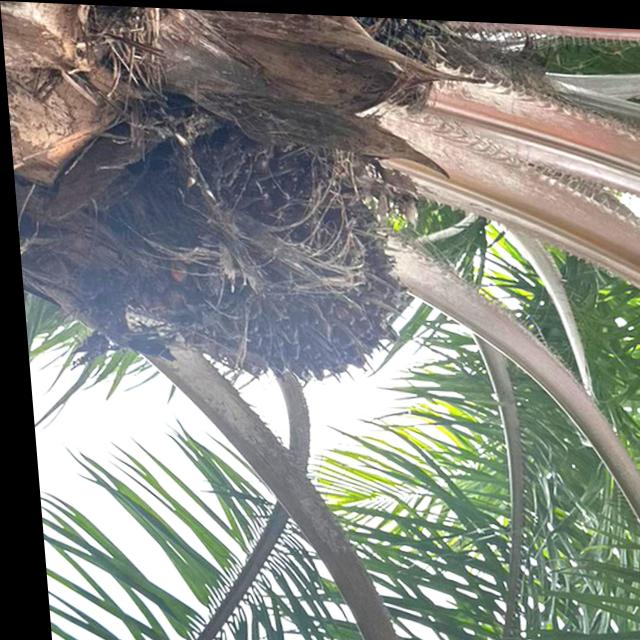ripe: (117, 135, 412, 387)
